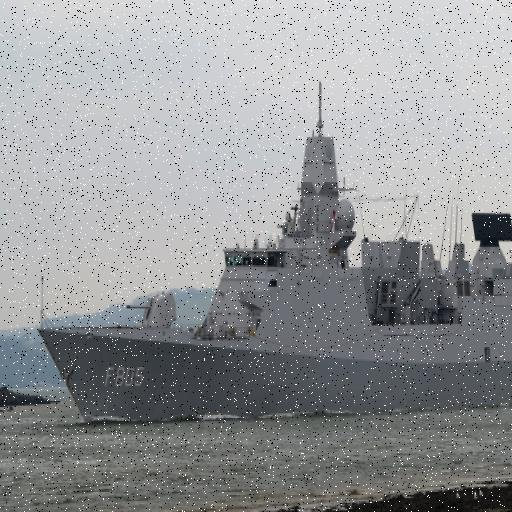Fragata: (39, 67, 512, 433)
